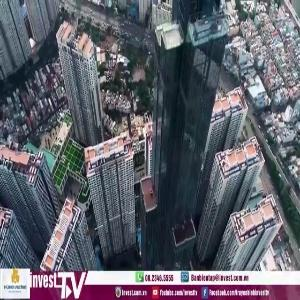drone: (57, 198, 131, 272)
